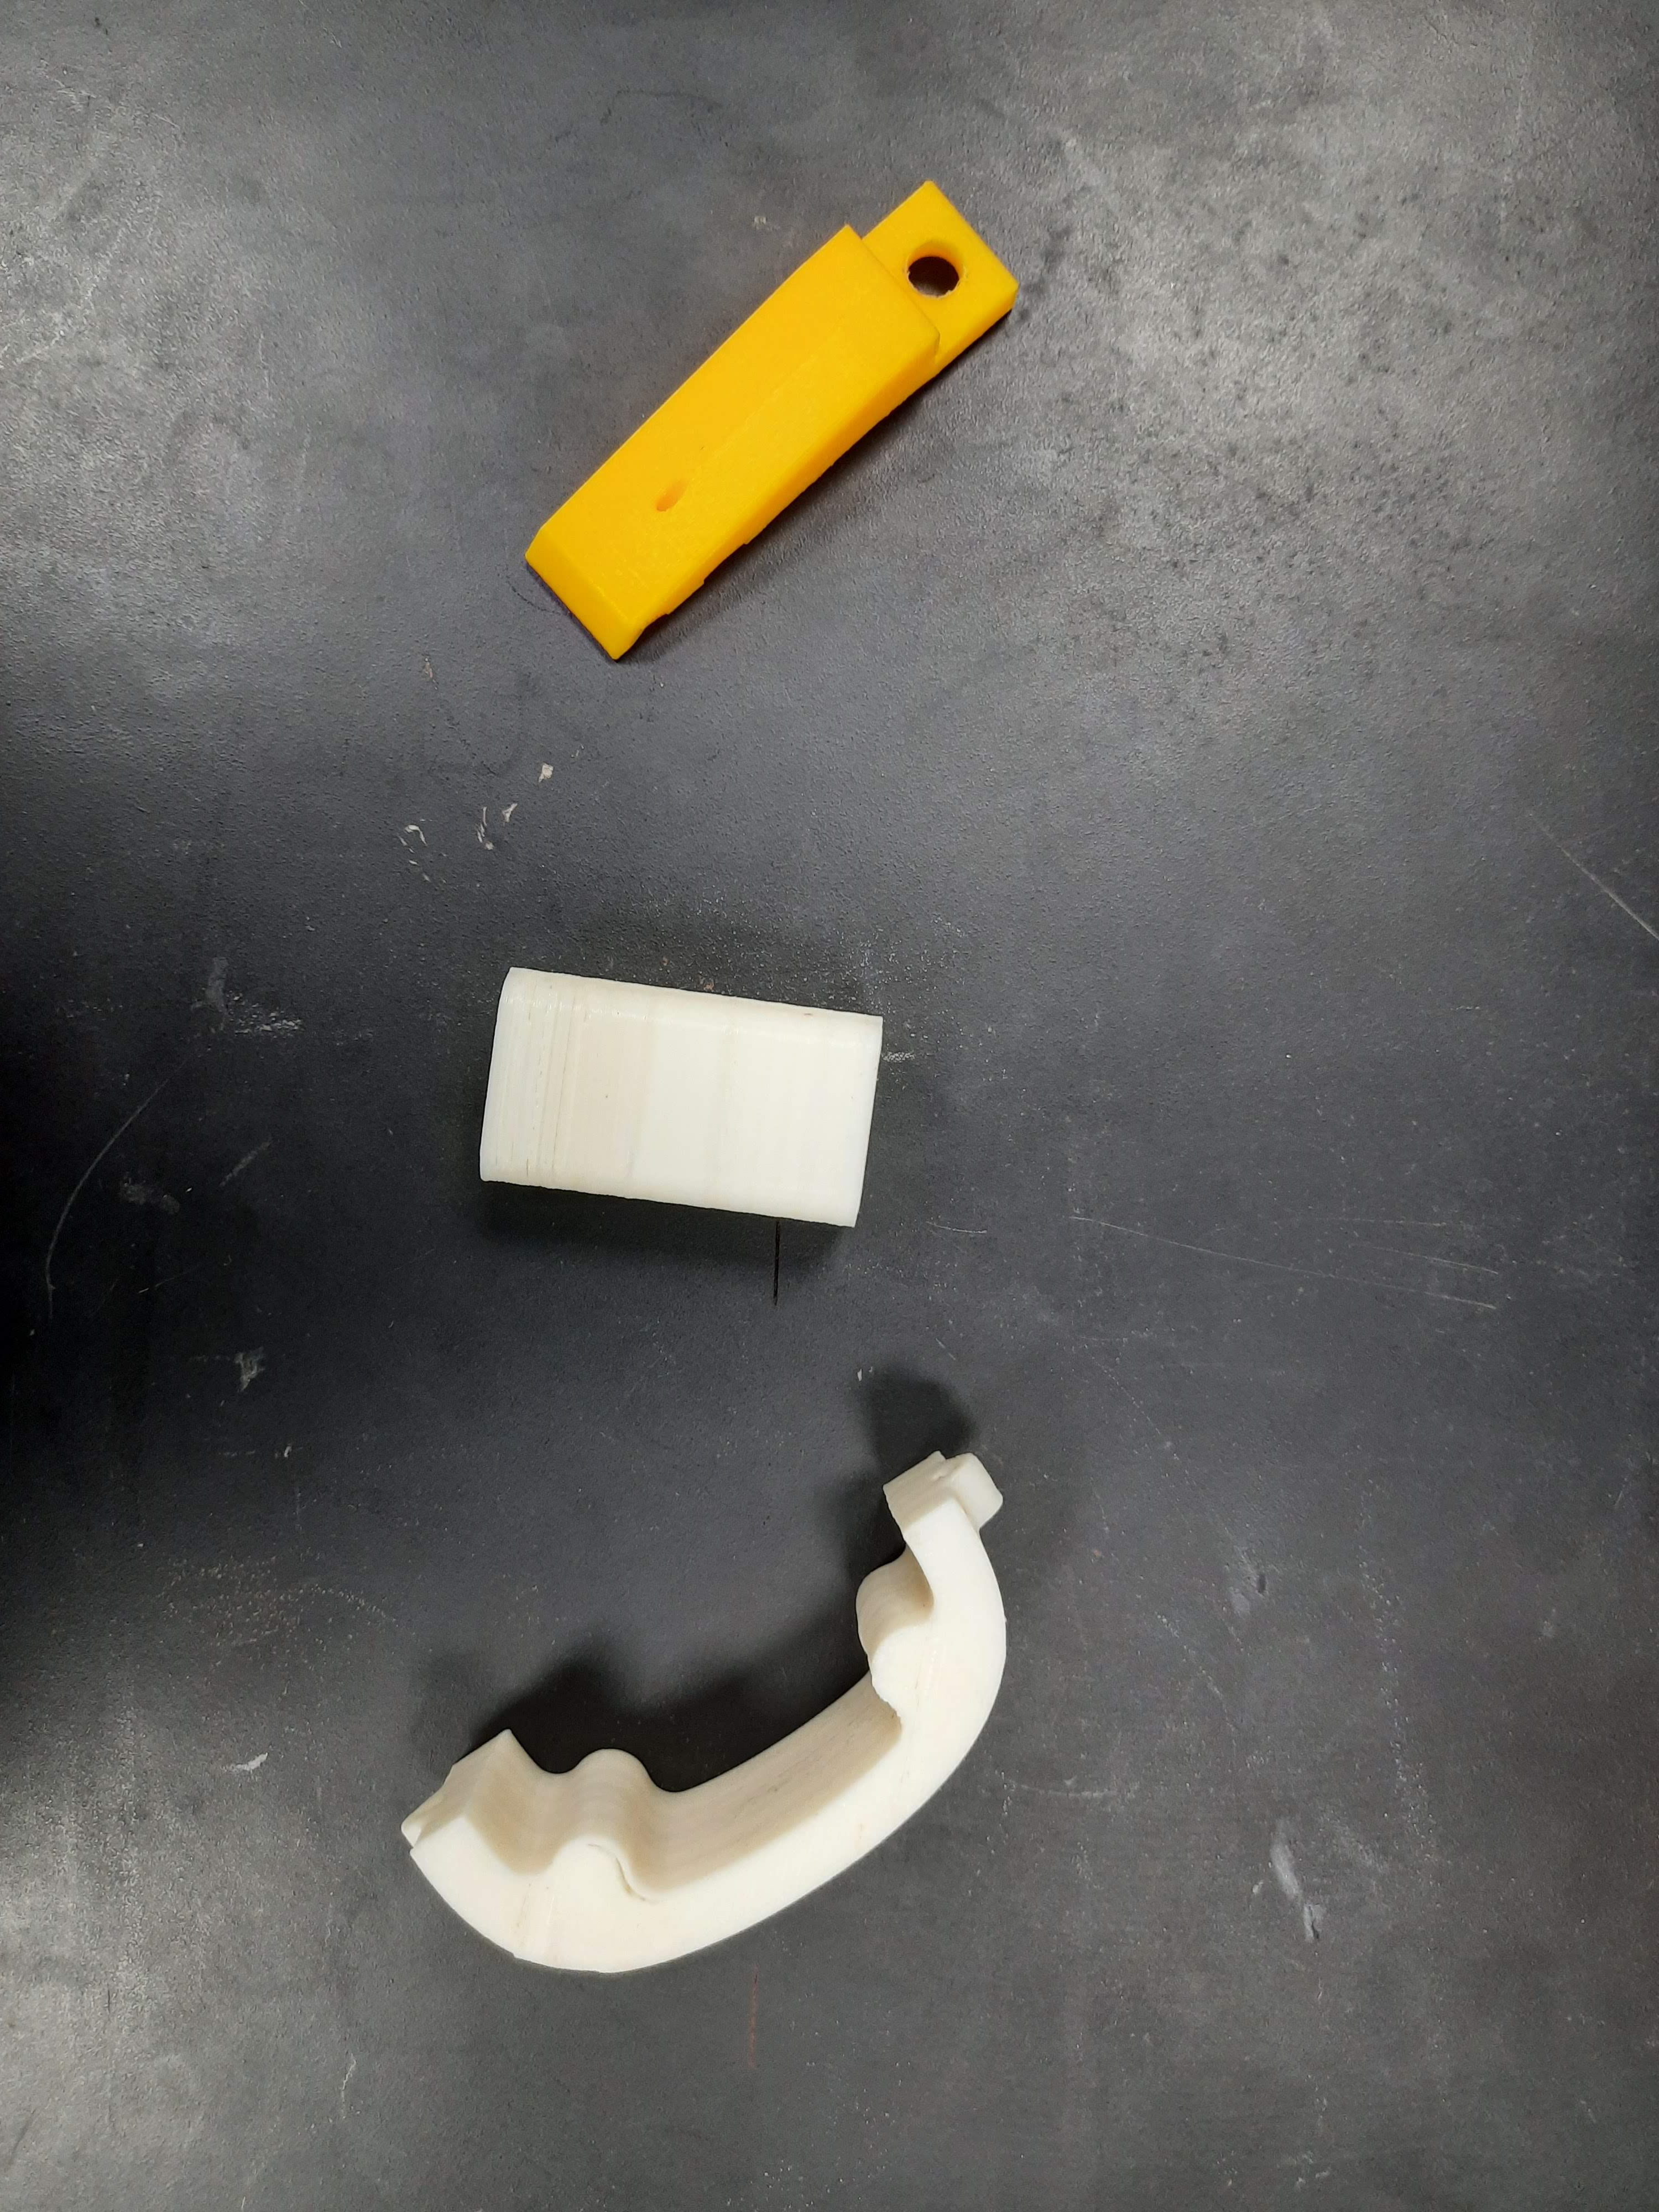ARC: (376, 1433, 1133, 2066)
CUBE: (479, 967, 889, 1217)
YELLOW: (500, 167, 1028, 662)
